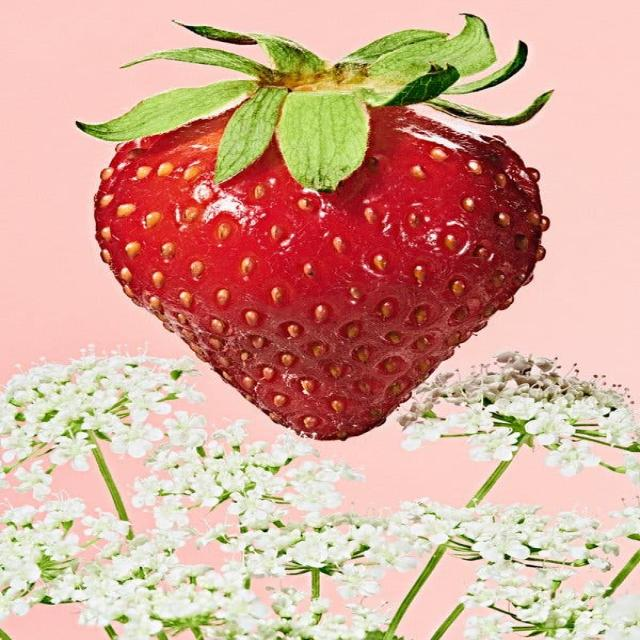strawberry: (58, 0, 572, 456)
